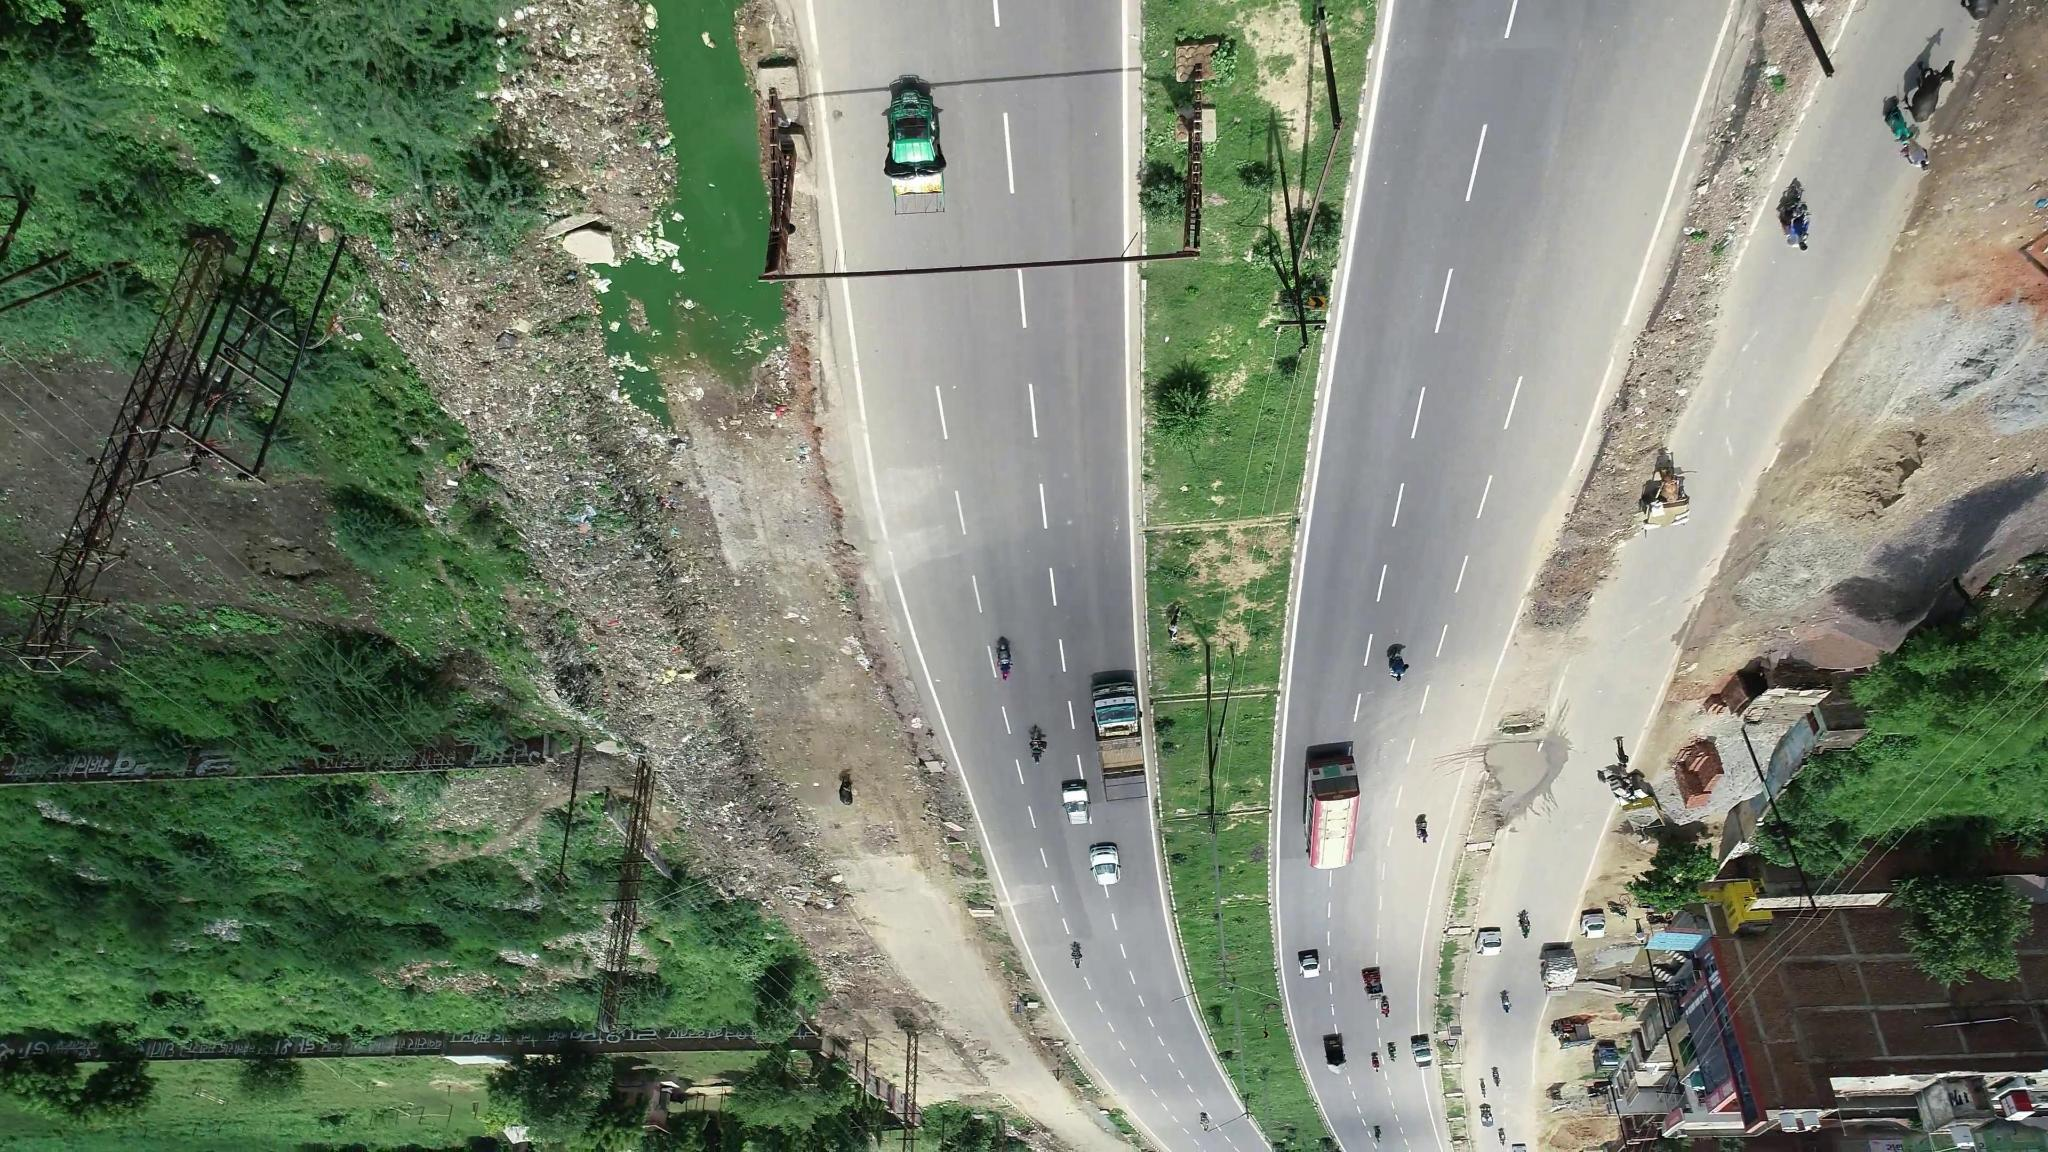Waterlogging: (1488, 745, 1556, 814)
